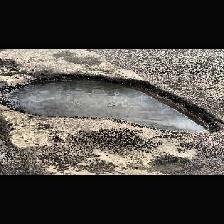pothole: (0, 73, 222, 135)
